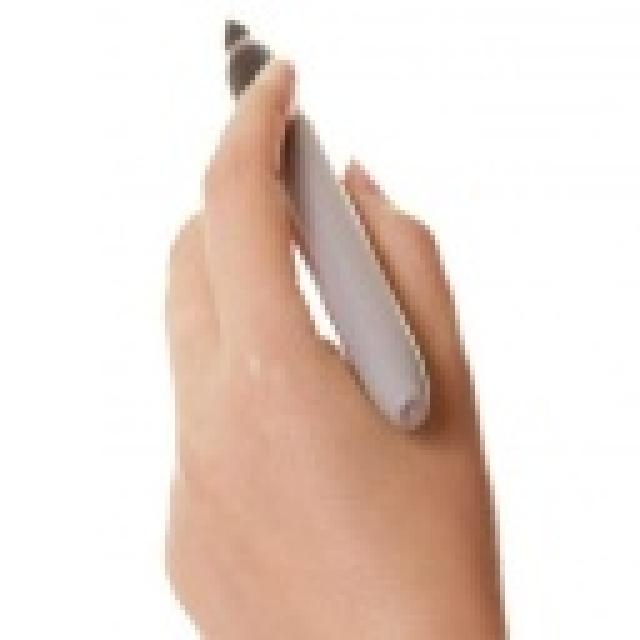pen: (214, 15, 447, 447)
